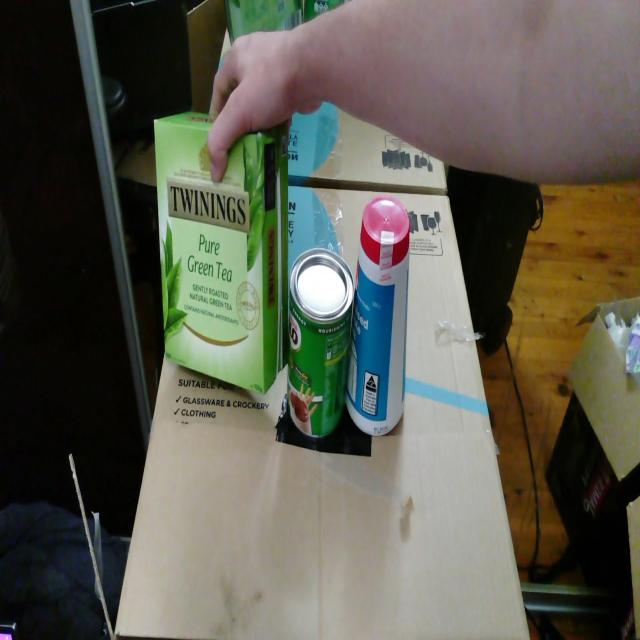nestle_milo_tin: (287, 248, 354, 438)
twinings_greentea_box: (154, 112, 288, 394)
woolworths_salt_bottle: (345, 196, 410, 437)
